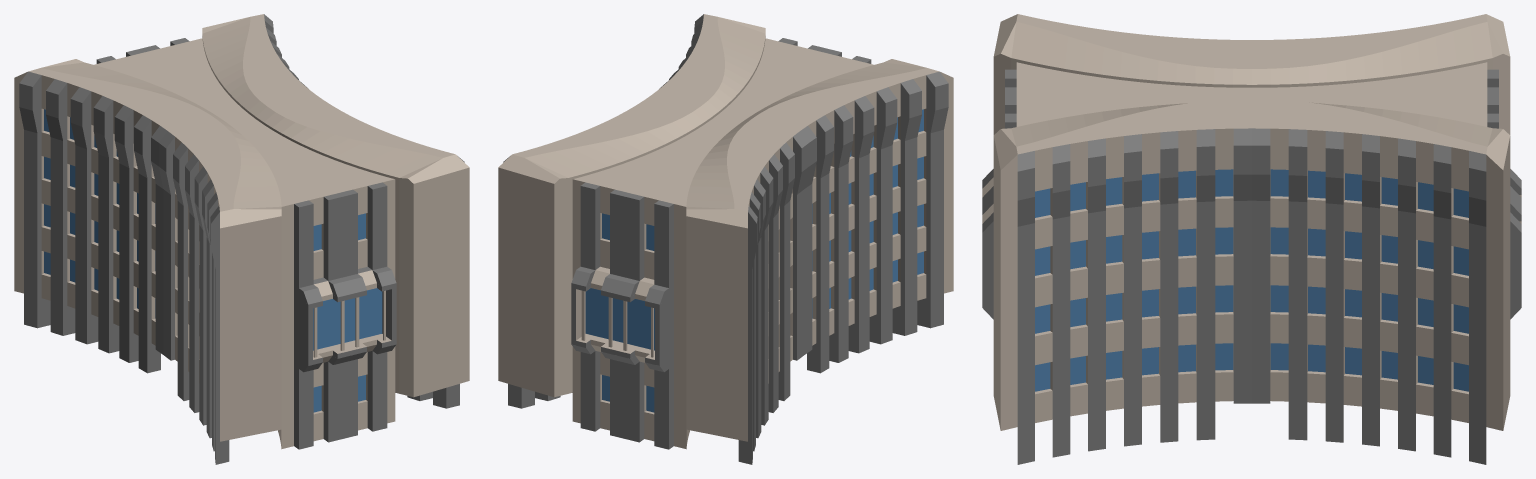
The model's file is Building_10.fbx.
3 views of the same model, side by side, from view 1: azimuth 30°, elevation 25°; view 2: azimuth 150°, elevation 25°; view 3: azimuth 270°, elevation 25° (orthographic). The views are drawn at different scales.
Visible parts, largest first — view 1: Building_10_Detail_01, Building_10_Detail_02; view 2: Building_10_Detail_01, Building_10_Detail_02; view 3: Building_10_Detail_01, Building_10_Detail_02.
Part boxes in pixels (box(x1,y1,x2,y2)): Building_10_Detail_01: box(14, 14, 469, 464); Building_10_Detail_02: box(94, 38, 396, 449); Building_10_Detail_01: box(498, 14, 953, 464); Building_10_Detail_02: box(571, 38, 873, 449); Building_10_Detail_01: box(993, 14, 1510, 464); Building_10_Detail_02: box(982, 62, 1521, 319).
Size of the model in its own units: 2661 by 2528 by 4013.
